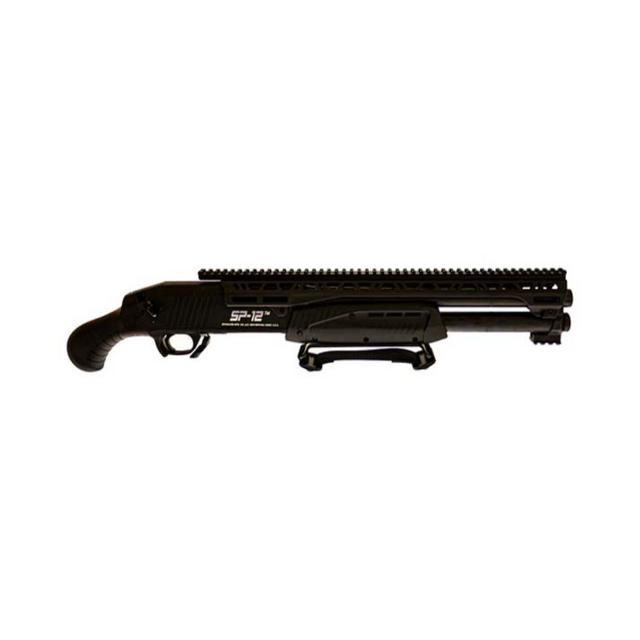ShotGun: (66, 269, 575, 375)
